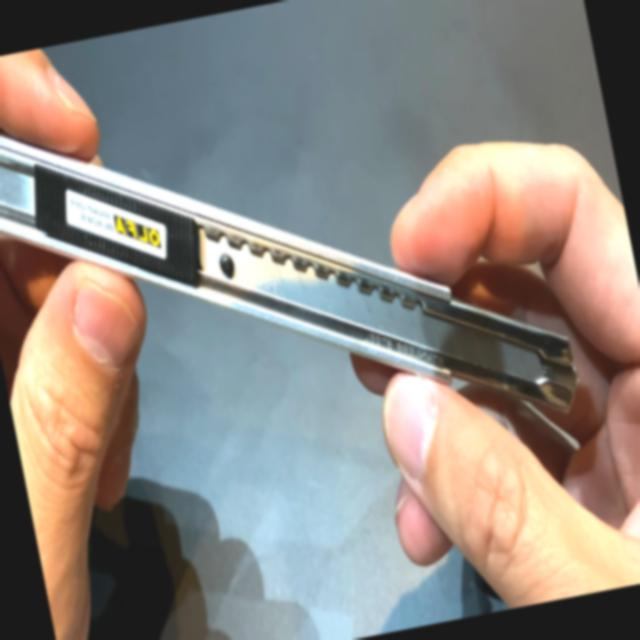cutter: (0, 0, 612, 535)
